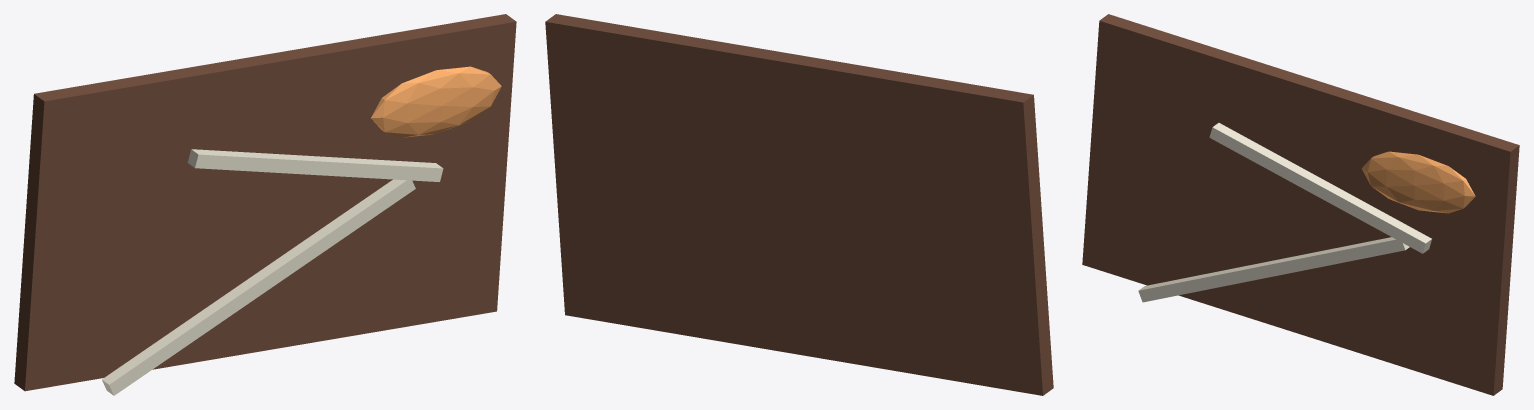
File: 03_weathering_wear_overlay_3.glb
3 renders of one model, left to right at view 1: azimuth 30°, elevation 25°; view 2: azimuth 150°, elevation 25°; view 3: azimuth 330°, elevation 25°, orthographic. The views are drawn at different scales.
Visible parts, largest first — view 1: wear_plate, scratch_a, rust_or_moss_spot, scratch_b; view 2: wear_plate; view 3: wear_plate, rust_or_moss_spot, scratch_b, scratch_a.
Part boxes in pixels (x1,y1,x2,y2): wear_plate: (14,14,516,391); scratch_a: (102,179,415,395); rust_or_moss_spot: (371,66,501,137); scratch_b: (187,149,443,181); wear_plate: (545,14,1053,395); wear_plate: (1082,14,1519,395); rust_or_moss_spot: (1361,151,1475,213); scratch_b: (1209,123,1431,253); scratch_a: (1138,237,1409,302).
Bounding box in the file's own units: 1.35 × 0.841 × 0.134.
